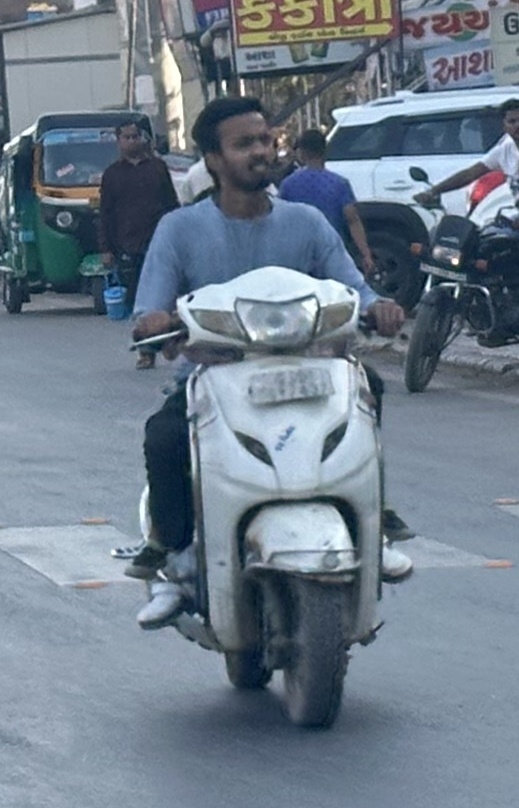BikeWithRider: (101, 87, 425, 737), (393, 90, 519, 401)
NoHelmet: (182, 90, 286, 203)
